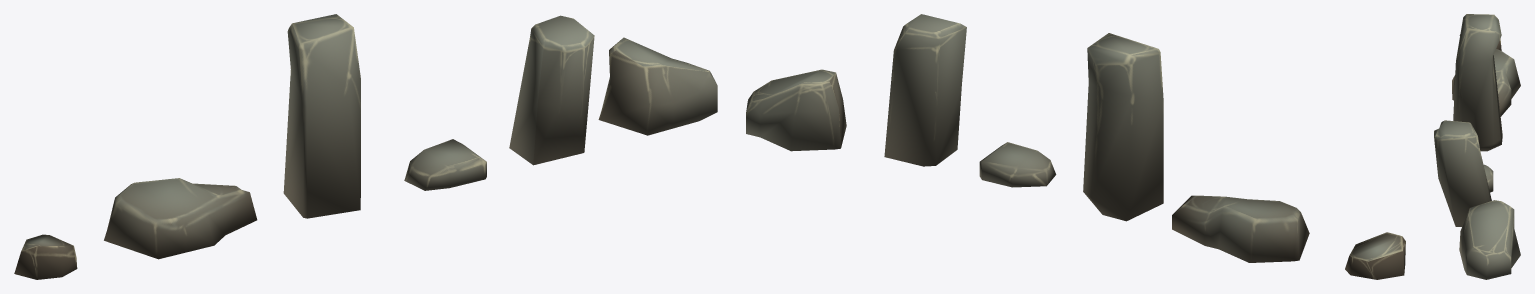
Rendered from rocks.FBX.
3 views of the same model, side by side, from view 1: azimuth 30°, elevation 25°; view 2: azimuth 150°, elevation 25°; view 3: azimuth 270°, elevation 25° (orthographic). The views are drawn at different scales.
Parts seen in each view (by area): view 1: rockPillar_004, rockPillar_003, rockMedium_002, rockMedium_003, rockSmall_001, rockSmall_002; view 2: rockPillar_004, rockPillar_003, rockMedium_002, rockMedium_003, rockSmall_001, rockSmall_002; view 3: rockPillar_004, rockPillar_003, rockMedium_003, rockMedium_002, rockSmall_001.
Boxes of the visible parts, x1,y1,x2,y2 form: rockPillar_004: (283, 14, 360, 218); rockPillar_003: (509, 15, 594, 165); rockMedium_002: (104, 178, 257, 259); rockMedium_003: (598, 37, 717, 135); rockSmall_001: (404, 139, 486, 190); rockSmall_002: (14, 234, 77, 279); rockPillar_004: (1083, 33, 1163, 221); rockPillar_003: (884, 14, 966, 166); rockMedium_002: (1172, 195, 1309, 262); rockMedium_003: (746, 69, 846, 151); rockSmall_001: (979, 142, 1056, 187); rockSmall_002: (1345, 232, 1405, 279); rockPillar_004: (1453, 14, 1502, 151); rockPillar_003: (1434, 120, 1491, 226); rockMedium_003: (1459, 200, 1520, 279); rockMedium_002: (1452, 49, 1520, 116); rockSmall_001: (1483, 164, 1493, 192).
Size of the model in its own units: 200 by 47.78 by 30.46.
